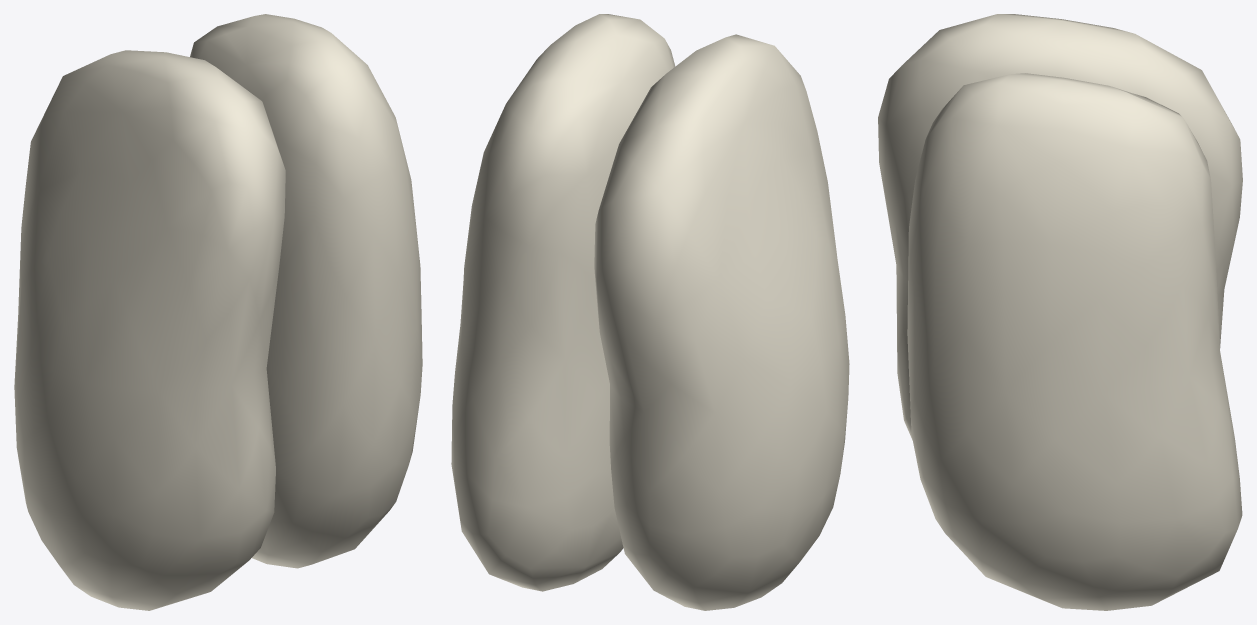
The picture shows the model from 3 angles, left to right: view 1: azimuth 30°, elevation 25°; view 2: azimuth 150°, elevation 25°; view 3: azimuth 270°, elevation 25°; orthographic projection. The views are drawn at different scales.
Visible parts, largest first — view 1: ZA_f7982d336331ce10; view 2: ZA_f7982d336331ce10; view 3: ZA_f7982d336331ce10.
Part boxes in pixels (x1,y1,x2,y2): ZA_f7982d336331ce10: (14, 14, 422, 610); ZA_f7982d336331ce10: (451, 14, 849, 610); ZA_f7982d336331ce10: (878, 14, 1242, 610).
Bounding box in the file's own units: 0.00904 × 0.0133 × 0.00837.
